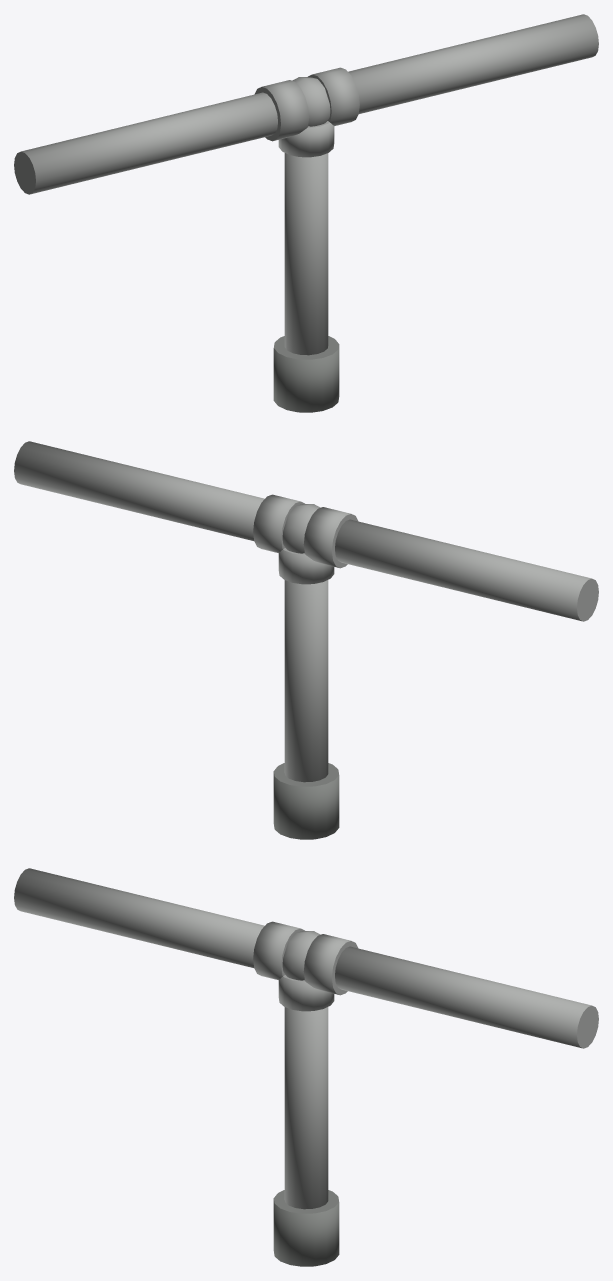
File: pipe_m11_x1.obj
3 views of the same model, one above another, from view 1: azimuth 30°, elevation 25°; view 2: azimuth 150°, elevation 25°; view 3: azimuth 330°, elevation 25° (orthographic).
Parts seen in each view (by area): view 1: pipe8, pipe2, pipe1, sleeve1, fitting_socket8, fitting_socket2, fitting_socket1, fitting_hub; view 2: pipe8, pipe2, pipe1, sleeve1, fitting_socket8, fitting_socket2, fitting_socket1, fitting_hub; view 3: pipe2, pipe8, pipe1, sleeve1, fitting_socket2, fitting_socket8, fitting_socket1, fitting_hub.
Part boxes in pixels (bbox=[...]): pipe8: bbox=[14, 92, 277, 194]; pipe2: bbox=[348, 14, 598, 113]; pipe1: bbox=[284, 153, 328, 355]; sleeve1: bbox=[273, 336, 339, 412]; fitting_socket8: bbox=[254, 80, 309, 141]; fitting_socket2: bbox=[308, 67, 359, 126]; fitting_socket1: bbox=[278, 121, 334, 157]; fitting_hub: bbox=[292, 77, 330, 126]; pipe8: bbox=[335, 519, 598, 621]; pipe2: bbox=[14, 441, 264, 540]; pipe1: bbox=[284, 580, 328, 782]; sleeve1: bbox=[273, 763, 339, 839]; fitting_socket8: bbox=[303, 507, 358, 568]; fitting_socket2: bbox=[253, 494, 304, 553]; fitting_socket1: bbox=[278, 548, 334, 584]; fitting_hub: bbox=[282, 504, 320, 553]; pipe2: bbox=[335, 946, 598, 1048]; pipe8: bbox=[14, 868, 264, 967]; pipe1: bbox=[284, 1007, 328, 1209]; sleeve1: bbox=[273, 1190, 339, 1266]; fitting_socket2: bbox=[303, 934, 358, 995]; fitting_socket8: bbox=[253, 921, 304, 980]; fitting_socket1: bbox=[278, 975, 334, 1011]; fitting_hub: bbox=[282, 931, 320, 980].
Size of the model in its own units: 1 by 0.5439 by 0.1014.
Materials: 2 (2 with a texture image).
